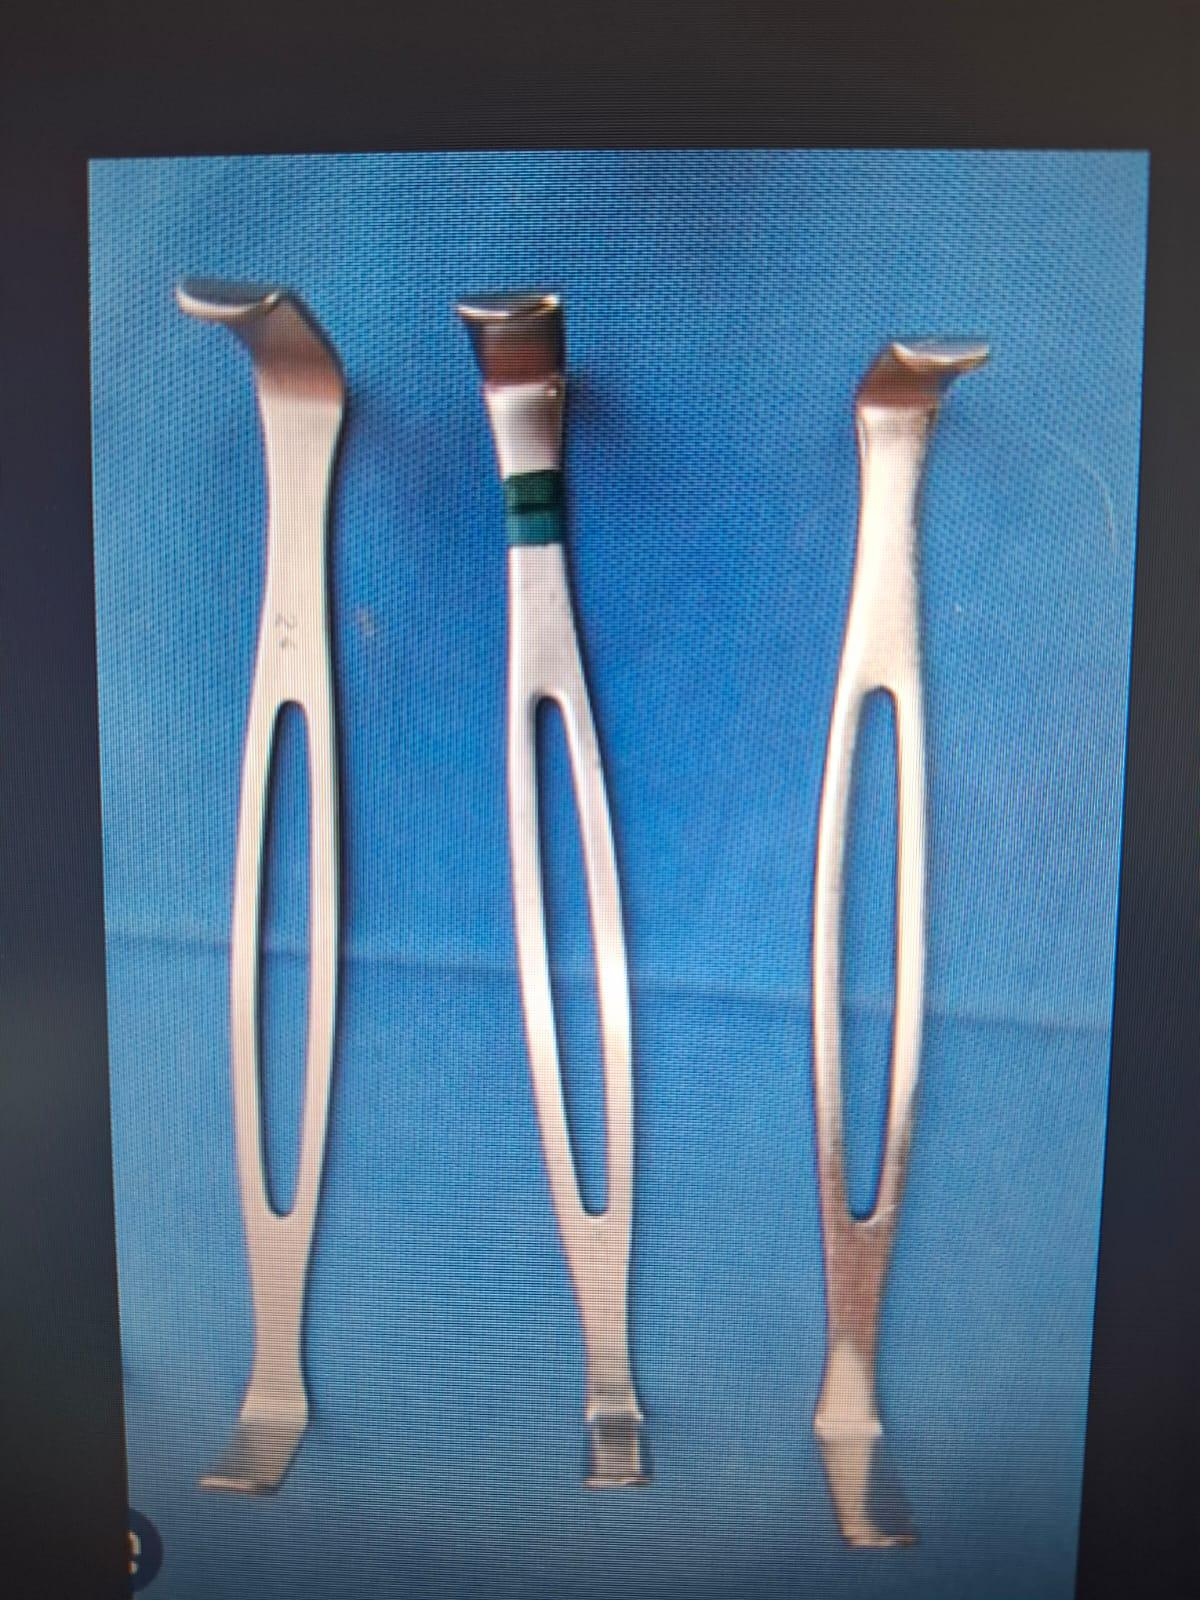Army Navy Retractor: (158, 254, 407, 1516), (790, 307, 1005, 1575)
